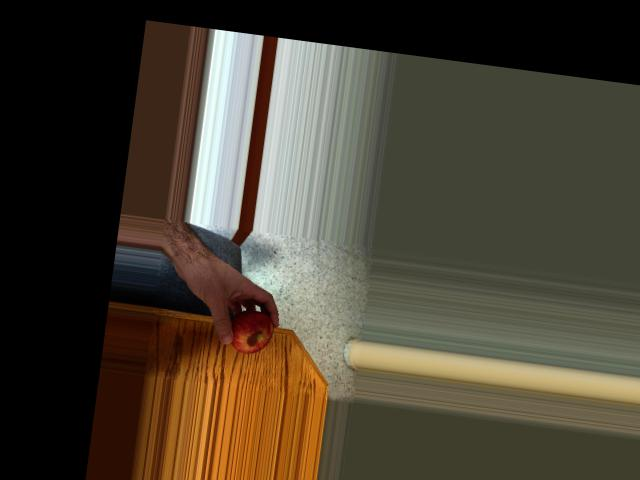apple: (220, 305, 278, 358)
